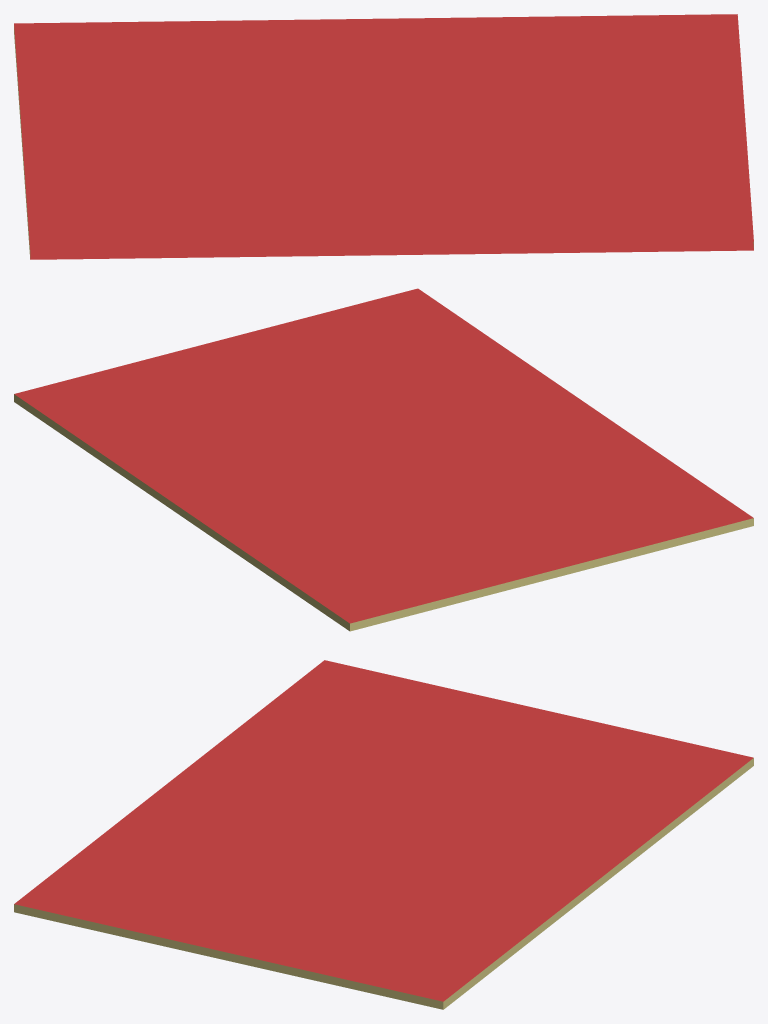
3 renders of one model, top to bottom at view 1: azimuth 30°, elevation 25°; view 2: azimuth 150°, elevation 25°; view 3: azimuth 270°, elevation 25°, orthographic. The views are drawn at different scales.
Bounding box in the file's own units: 9.01 × 8.25 × 0.1.
